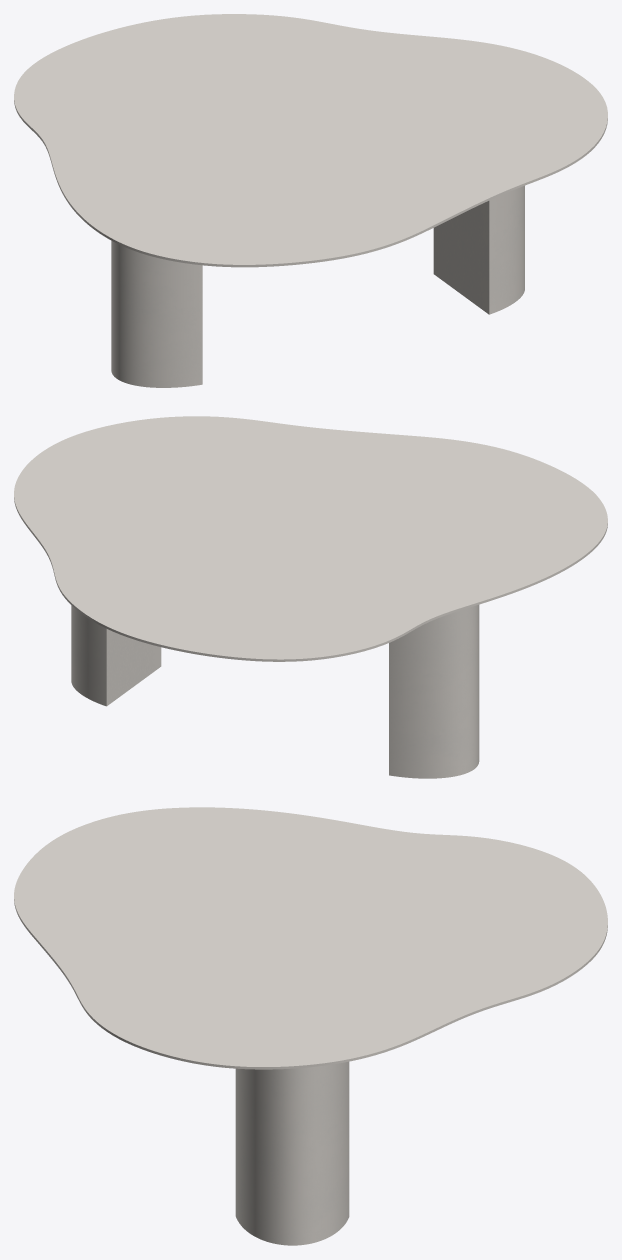
File: pearlwhite_topone_facet_hillside.glb
3 renders of one model, top to bottom at view 1: azimuth 30°, elevation 25°; view 2: azimuth 150°, elevation 25°; view 3: azimuth 270°, elevation 25°, orthographic. The views are drawn at different scales.
Parts seen in each view (by area): view 1: facet_topone, hillside; view 2: facet_topone, hillside; view 3: facet_topone, hillside.
Boxes of the visible parts, x1,y1,x2,y2 form: facet_topone: [14, 14, 607, 267]; hillside: [111, 185, 524, 387]; facet_topone: [14, 416, 607, 661]; hillside: [71, 605, 479, 778]; facet_topone: [14, 807, 607, 1069]; hillside: [235, 1061, 349, 1245].
Size of the model in its own units: 6.83 by 2.5 by 6.6.
Materials: 1 (1 with a texture image).
